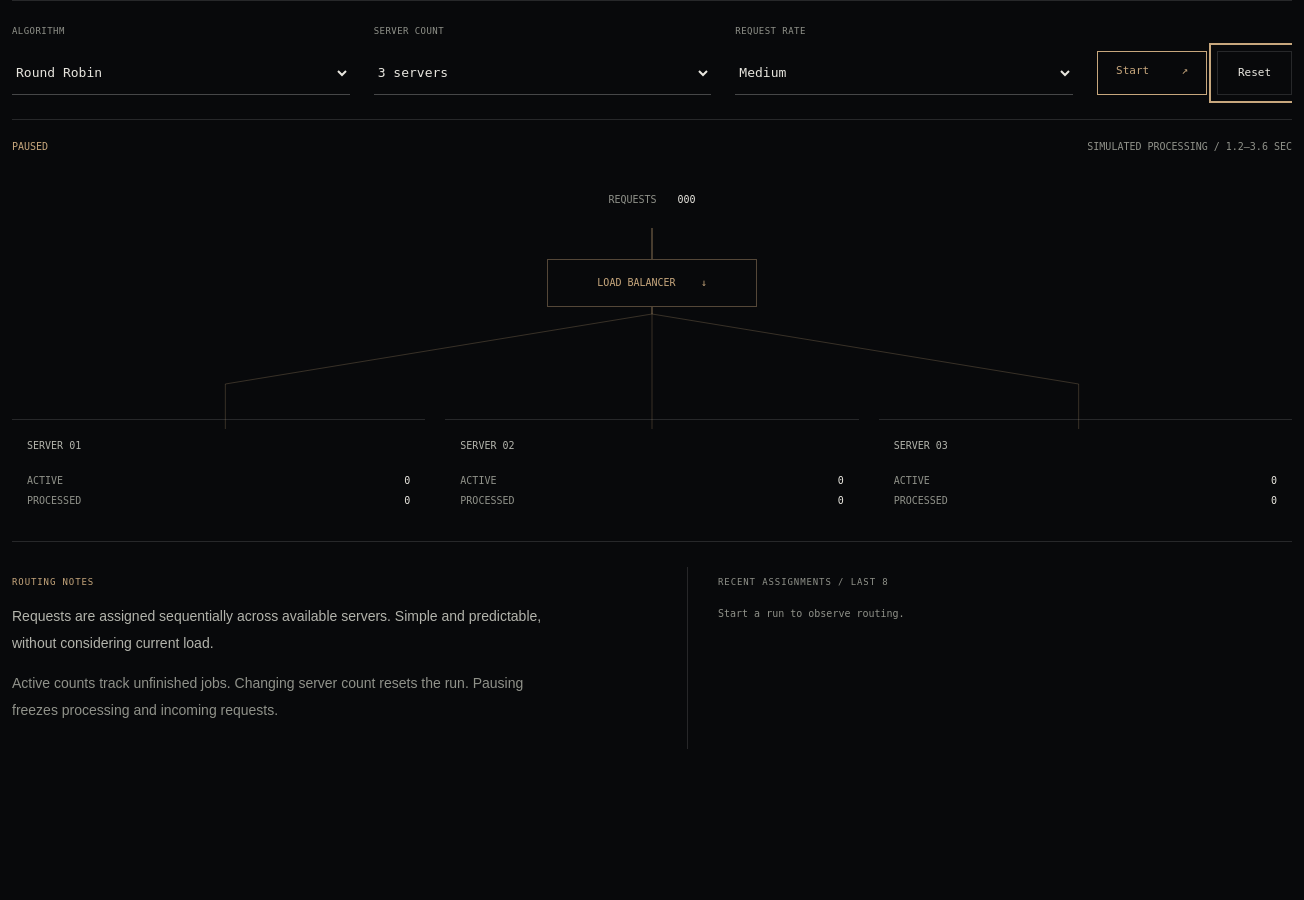
Test case: uses labelled native keyboard controls and updates routing explanation
Select "Least Connections" in the dropdown labelled "ALGORITHM" at [181, 72], box [12,50,350,94]
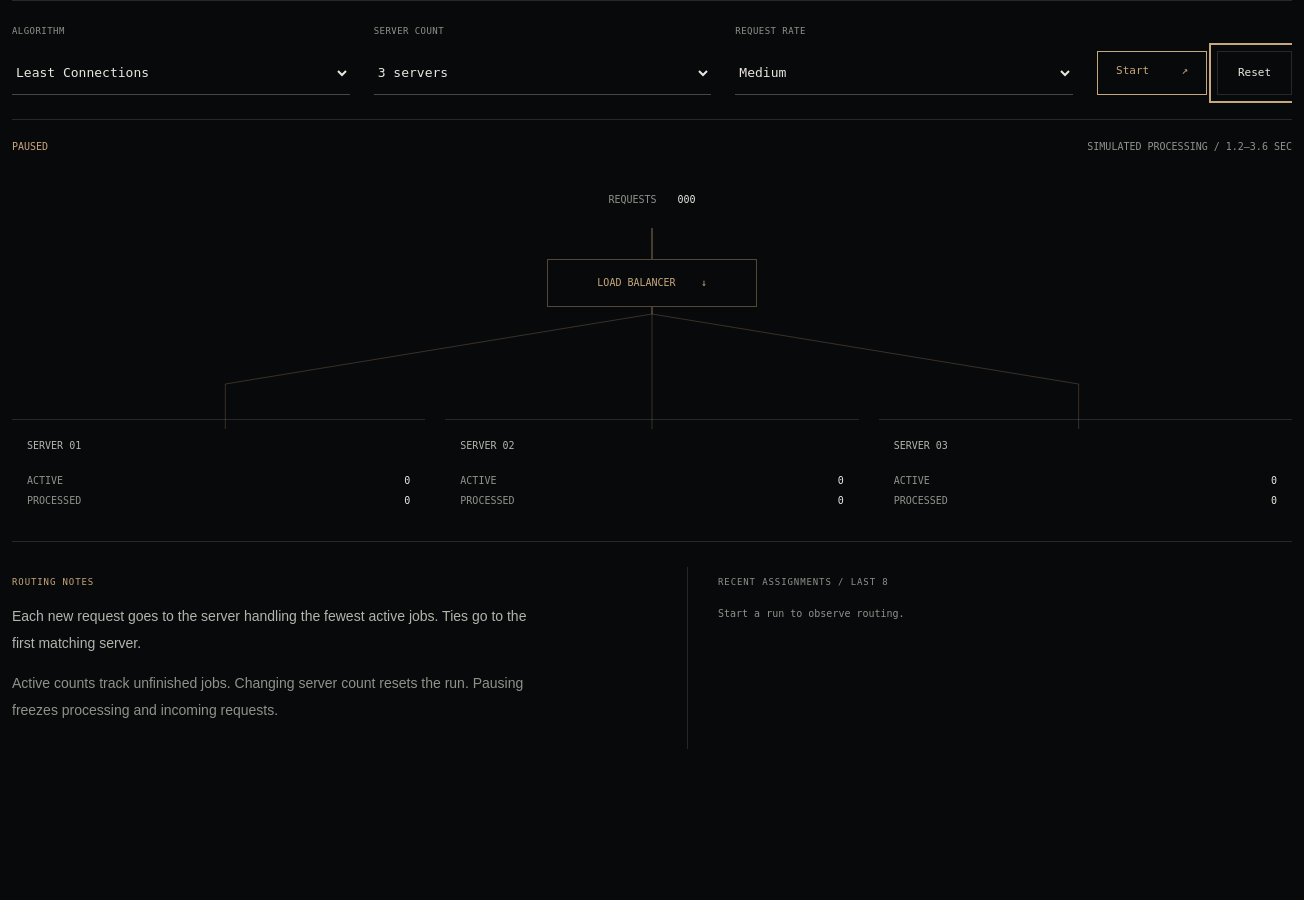
Expected: the text "fewest active jobs" is shown, [12,608,526,651]
